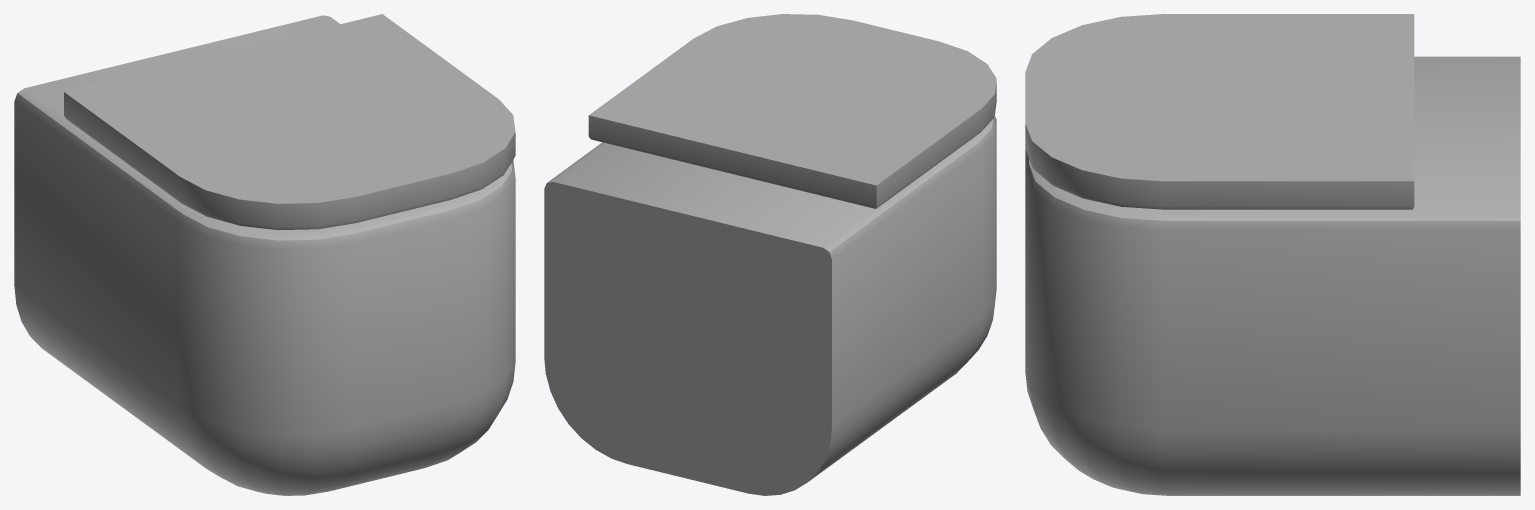
The model's file is Closet3.fbx.
3 renders of one model, left to right at view 1: azimuth 30°, elevation 25°; view 2: azimuth 150°, elevation 25°; view 3: azimuth 270°, elevation 25°, orthographic. The views are drawn at different scales.
Parts seen in each view (by area): view 1: Cube.011; view 2: Cube.011; view 3: Cube.011.
Part boxes in pixels (box(x1,y1,x2,y2)): Cube.011: box(14, 14, 515, 495); Cube.011: box(544, 14, 996, 495); Cube.011: box(1025, 14, 1520, 495).
Size of the model in its own units: 63.38 by 62.24 by 79.3.
Materials: 1 (1 with a texture image).
